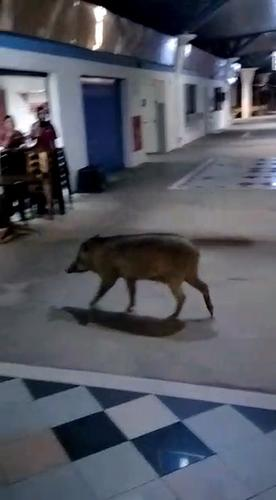boar: (58, 229, 226, 333)
